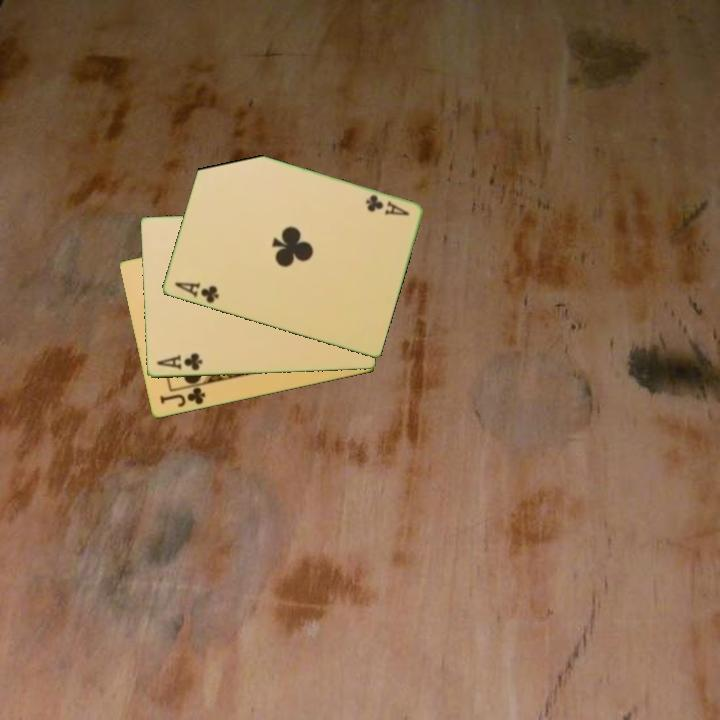Ac: (170, 278, 222, 306), (362, 191, 412, 219), (153, 350, 205, 374)
Jc: (156, 384, 208, 410)
